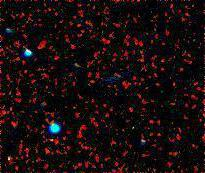star: (0, 141, 23, 171)
